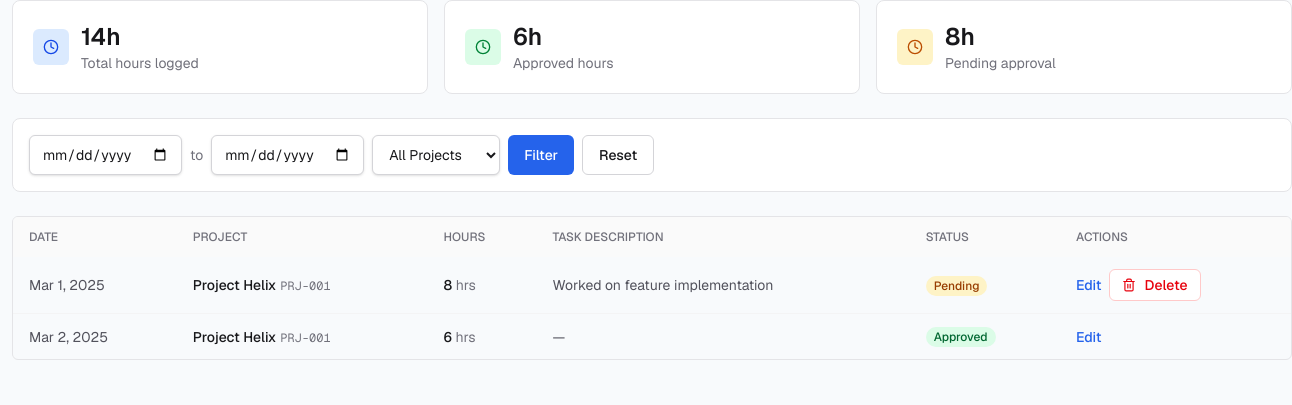
TimesheetHistoryTable › rejects a "From" date that is after the "To" date without applying the filter
In the 1st date field: [106, 155] box [29, 135, 182, 175], type "2025-03-31"
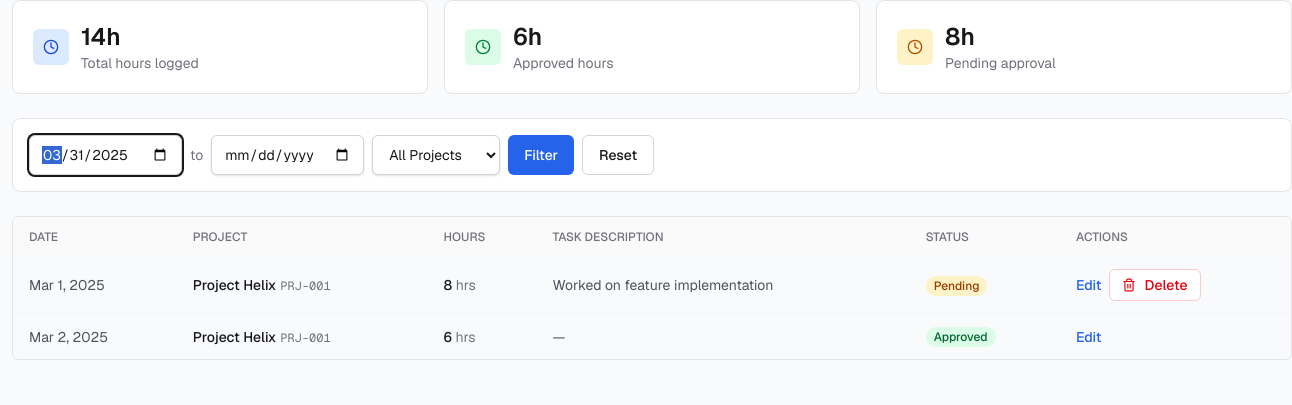
In the 2nd date field: [288, 155] box [211, 135, 364, 175], type "2025-03-01"
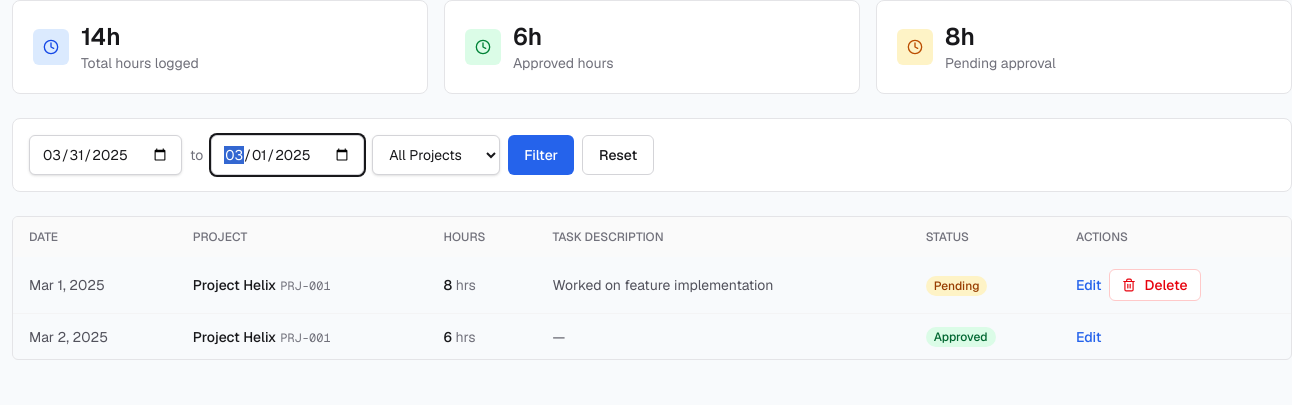
Click the button "Filter": [541, 155] box [508, 135, 574, 175]
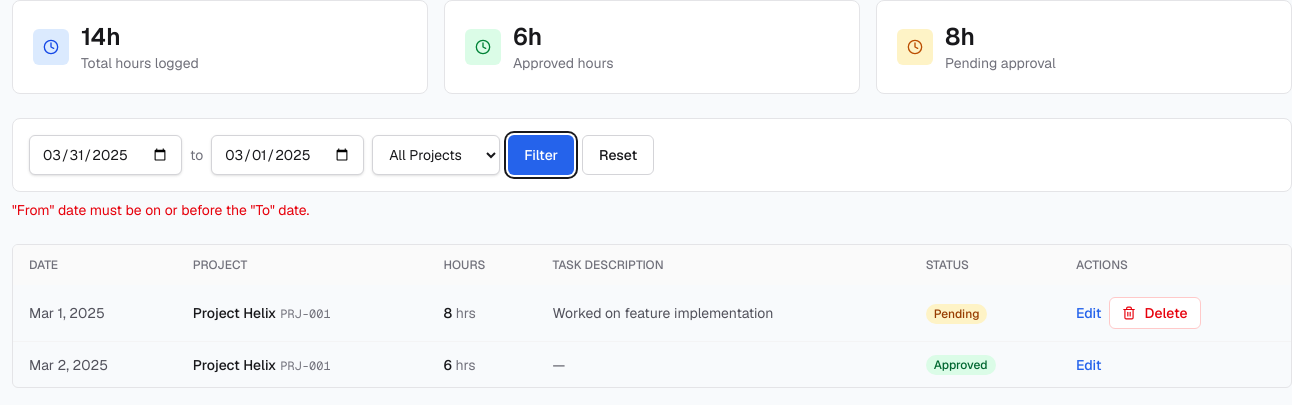
Expected: the number of rows is 3, [13, 245, 1291, 285]; [13, 285, 1291, 342]; [13, 342, 1291, 387]
Now the text "\"From\" date must be on or before the \"To\" date." is shown, box [12, 201, 309, 219]
